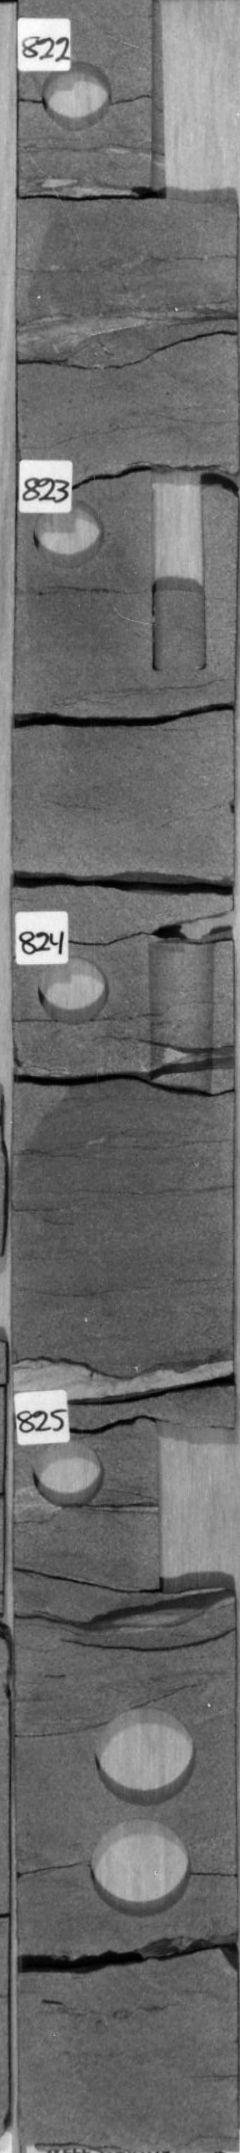hplug: (36, 54, 118, 137), (27, 1429, 107, 1515), (29, 497, 112, 570), (36, 947, 112, 1024)
scal: (84, 1817, 203, 1926), (86, 1699, 197, 1812)
vplug: (143, 457, 217, 684), (147, 1407, 232, 1600), (149, 4, 225, 205), (140, 930, 219, 1097)
